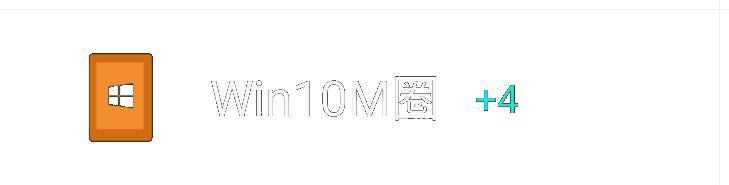CheckedTextView: (1, 1, 728, 184)
